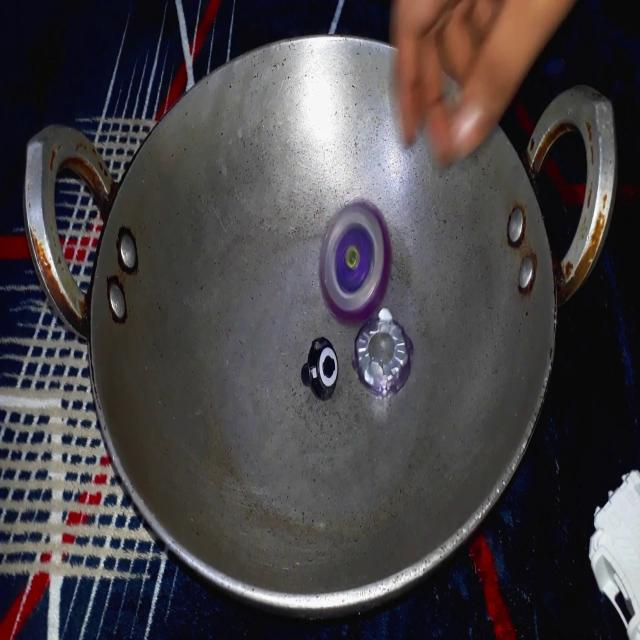beyblade: (308, 174, 401, 334)
broken beyblade: (291, 303, 423, 412)
